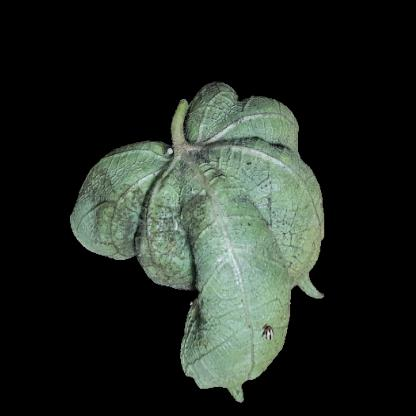curl_stage2: (203, 216, 264, 334), (268, 164, 310, 278), (193, 101, 277, 151), (214, 152, 264, 221), (198, 333, 267, 379), (111, 144, 159, 188), (157, 151, 219, 185), (264, 275, 296, 324)
sooty: (99, 189, 195, 261), (147, 260, 195, 290)
